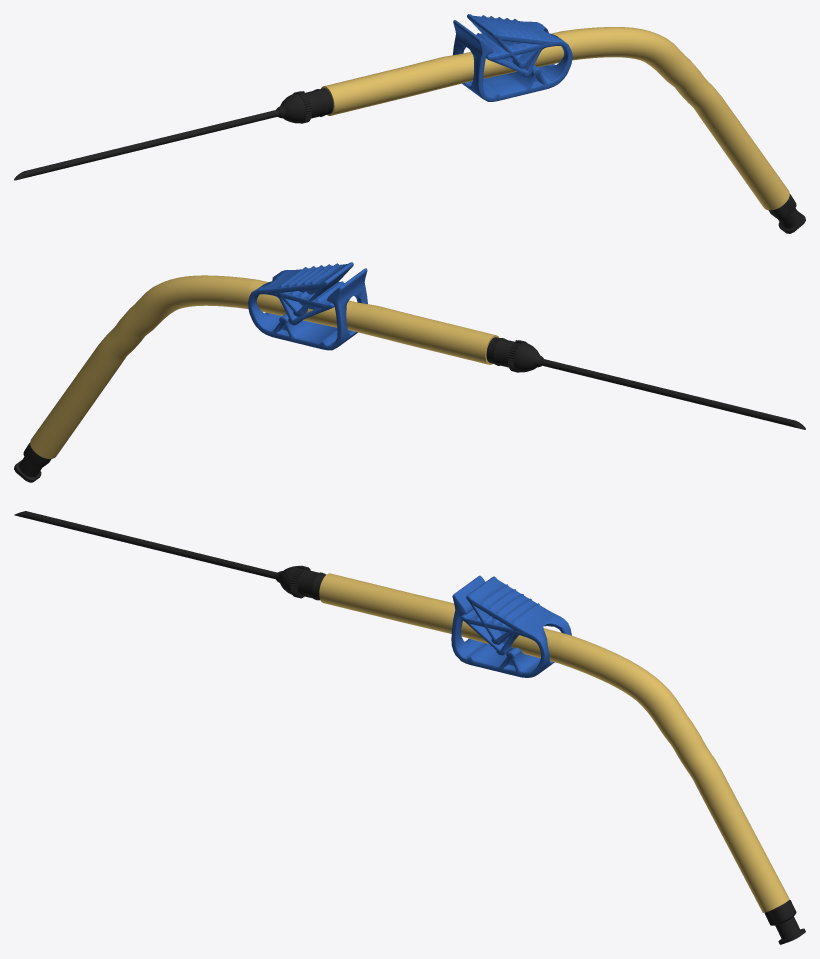
The model's file is 腹腔针_原始.FBX.
3 renders of one model, top to bottom at view 1: azimuth 30°, elevation 25°; view 2: azimuth 150°, elevation 25°; view 3: azimuth 330°, elevation 25°, orthographic.
Visible parts, largest first — view 1: guan, Tube_clip_cl, Puncture_rubber_tube, Tube_clip_open; view 2: guan, Tube_clip_cl, Puncture_rubber_tube, Tube_clip_open; view 3: guan, Tube_clip_cl, Puncture_rubber_tube, Tube_clip_open.
Part boxes in pixels (bbox=[...]): guan: bbox=[321, 27, 789, 210]; Tube_clip_cl: bbox=[453, 20, 572, 101]; Puncture_rubber_tube: bbox=[14, 88, 805, 233]; Tube_clip_open: bbox=[467, 14, 557, 68]; guan: bbox=[30, 275, 499, 458]; Tube_clip_cl: bbox=[248, 268, 367, 350]; Puncture_rubber_tube: bbox=[14, 337, 805, 482]; Tube_clip_open: bbox=[263, 262, 353, 316]; guan: bbox=[319, 573, 789, 912]; Tube_clip_cl: bbox=[451, 575, 571, 677]; Puncture_rubber_tube: bbox=[14, 511, 805, 944]; Tube_clip_open: bbox=[459, 576, 556, 644].
Bounding box in the file's own units: 7 × 2.39 × 0.4146.
